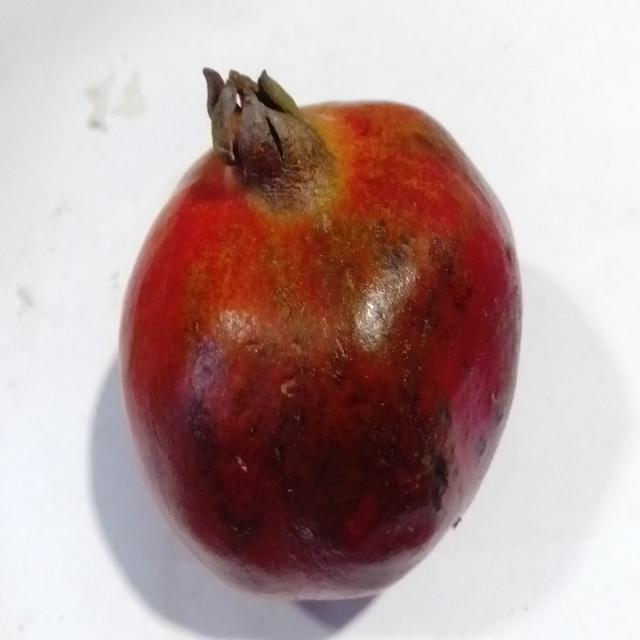Rotten: (117, 66, 524, 601)
